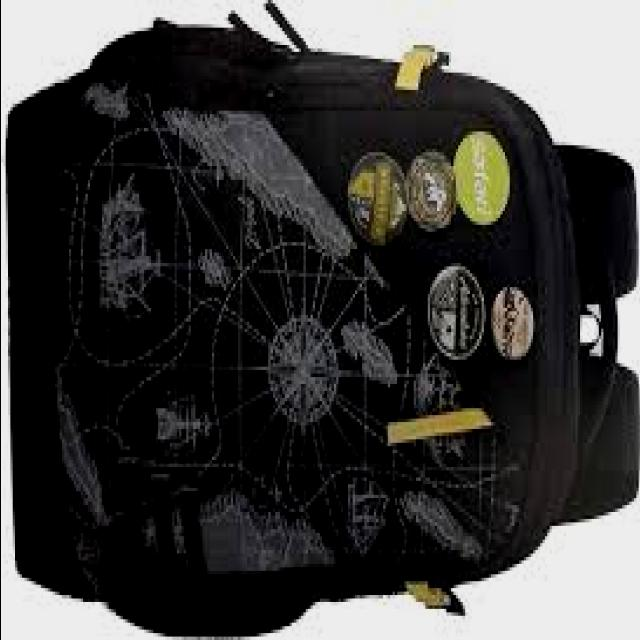backpack: (8, 2, 640, 638)
